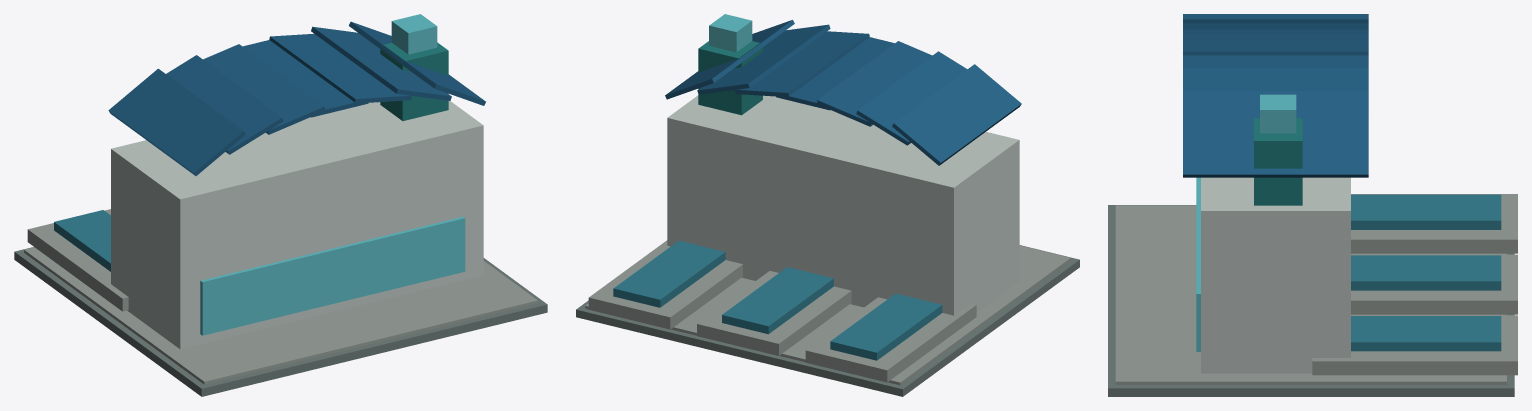
File: airport_terminal_lv4.glb
The picture shows the model from 3 angles, left to right: view 1: azimuth 30°, elevation 25°; view 2: azimuth 150°, elevation 25°; view 3: azimuth 270°, elevation 25°; orthographic projection. The views are drawn at different scales.
Parts seen in each view (by area): view 1: rough, metallic, glossy; view 2: rough, metallic, glossy; view 3: rough, metallic, glossy.
Part boxes in pixels (x1,y1,x2,y2): rough: (14, 42, 547, 396); metallic: (108, 21, 485, 175); glossy: (54, 14, 465, 335); rough: (576, 41, 1079, 396); metallic: (665, 20, 1021, 165); glossy: (613, 14, 942, 360); rough: (1108, 118, 1517, 396); metallic: (1183, 14, 1368, 177); glossy: (1196, 94, 1501, 351).
Bounding box in the file's own units: 9.8 × 6.63 × 9.27.
